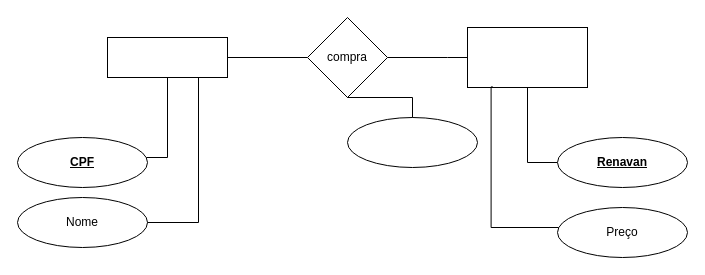
Image size: 705x275. Some labels were removed from this diagram. Each missing label, with the centre of its shape:
"CARRO" goes at pixel 527 57.
"CLIENTE" goes at pixel 167 57.
"Valor" goes at pixel 412 142.
